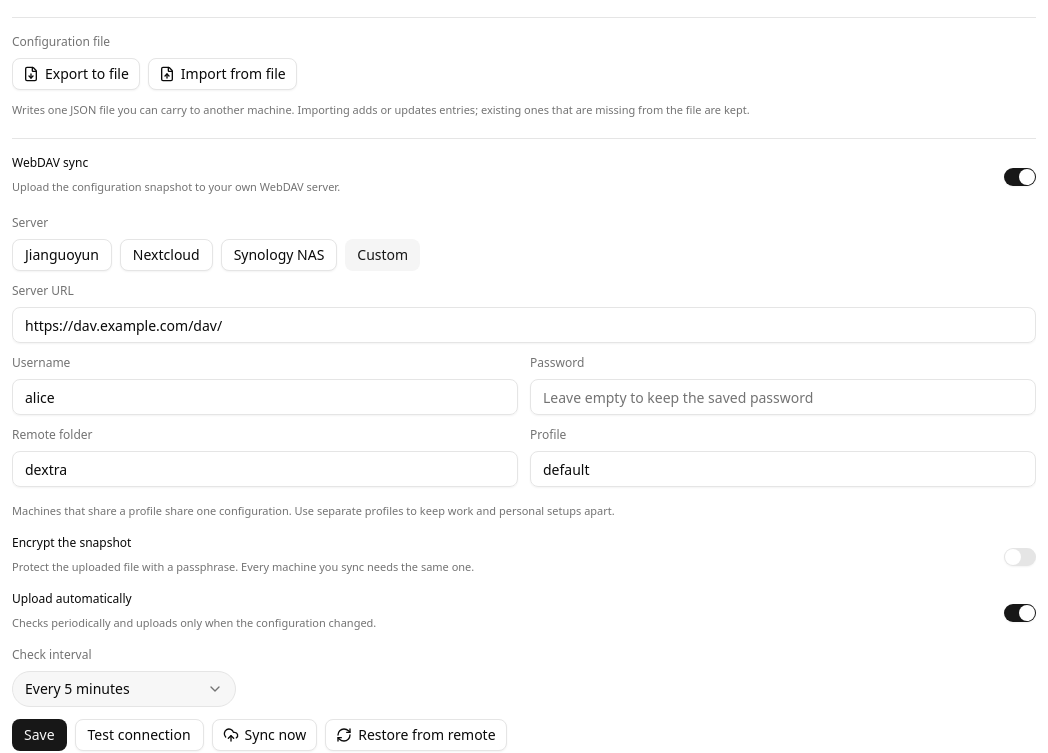
Scenario: ConfigSyncSettings — encryption › asks for a passphrase only once encryption is switched on
Expected: the button "Save" is shown, [12,719,67,751]
What coordinates should you click on to do the following:
click the switch named "Encrypt the snapshot" in the row of "Encrypt the snapshot"
I would click on:
 (1020, 557)
Its box is [1004,548,1036,566].
(page scrolled)
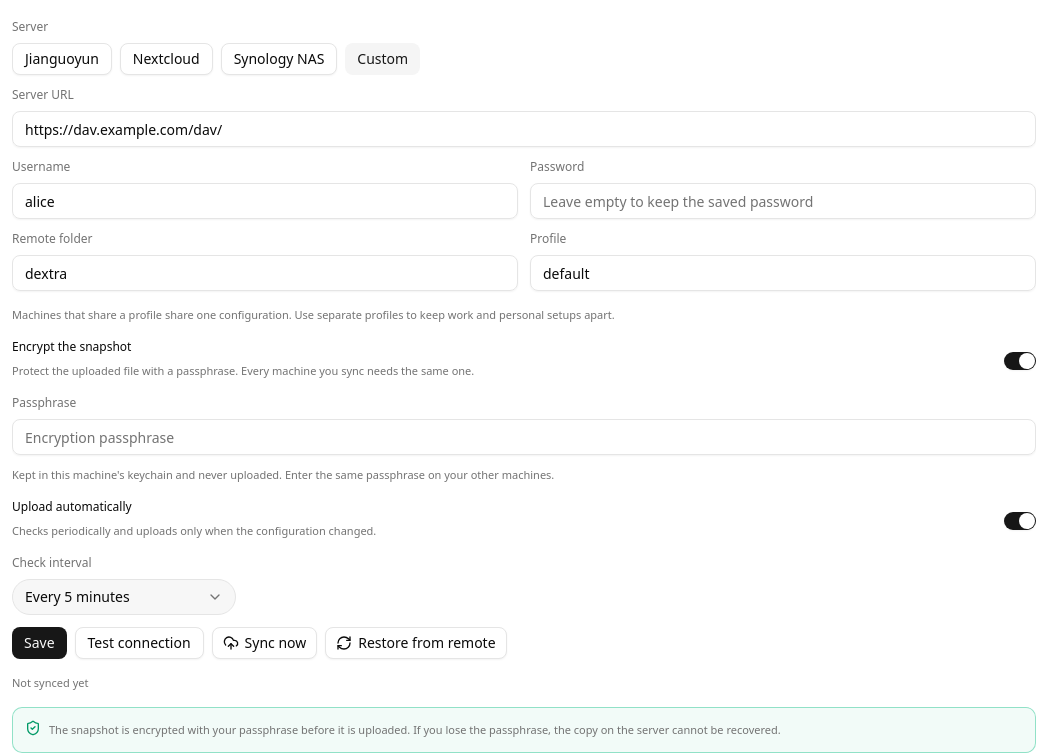
Now the password field with id "config-sync-passphrase" is shown, box [12,419,1036,455]
Now the text "The snapshot is encrypted with your passphrase before it is uploaded. If you lose the passphrase, the copy on the server" is shown, box [49,722,781,737]
